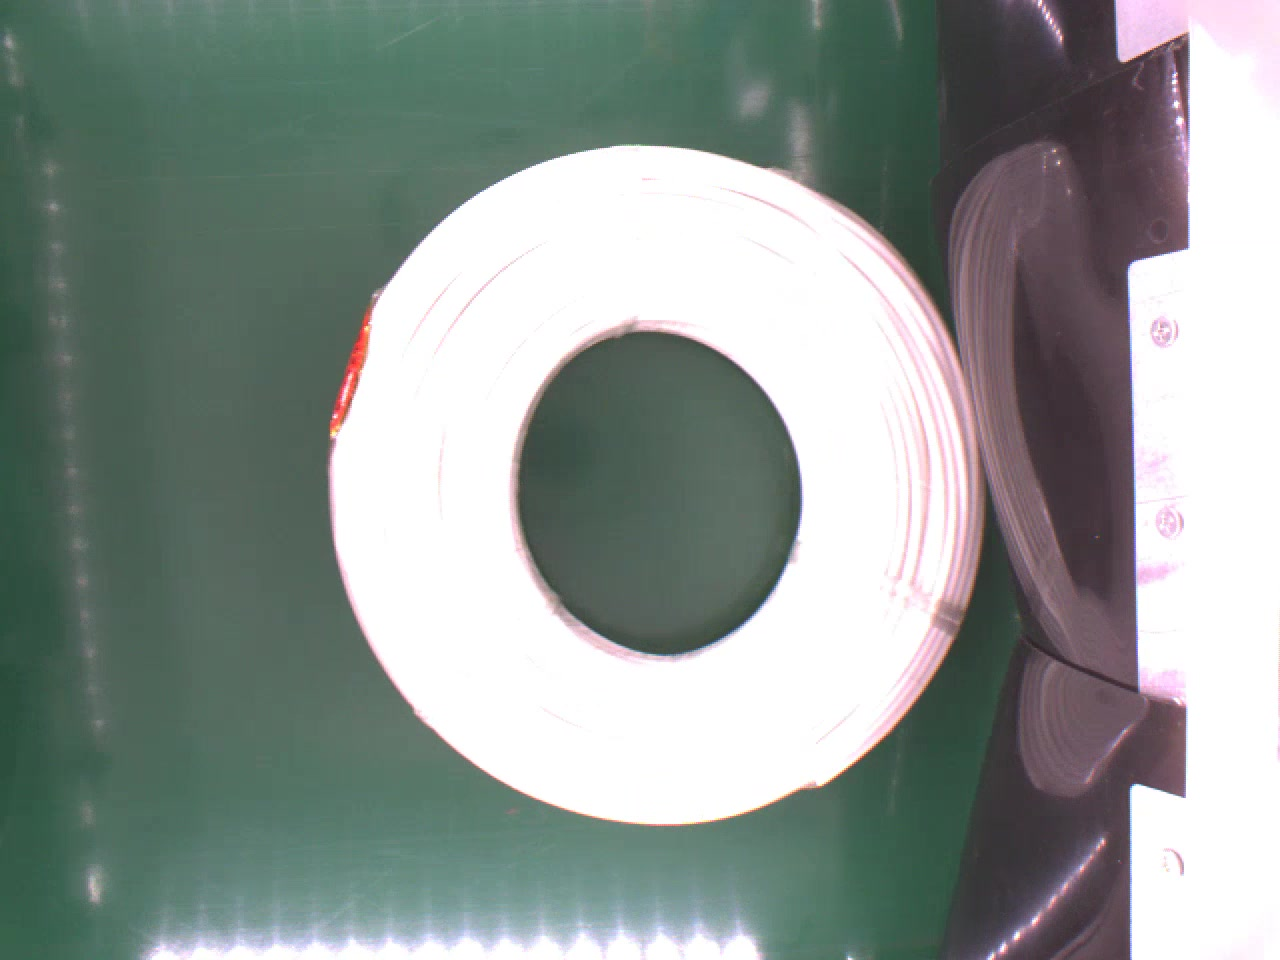white: (333, 142, 985, 826)
